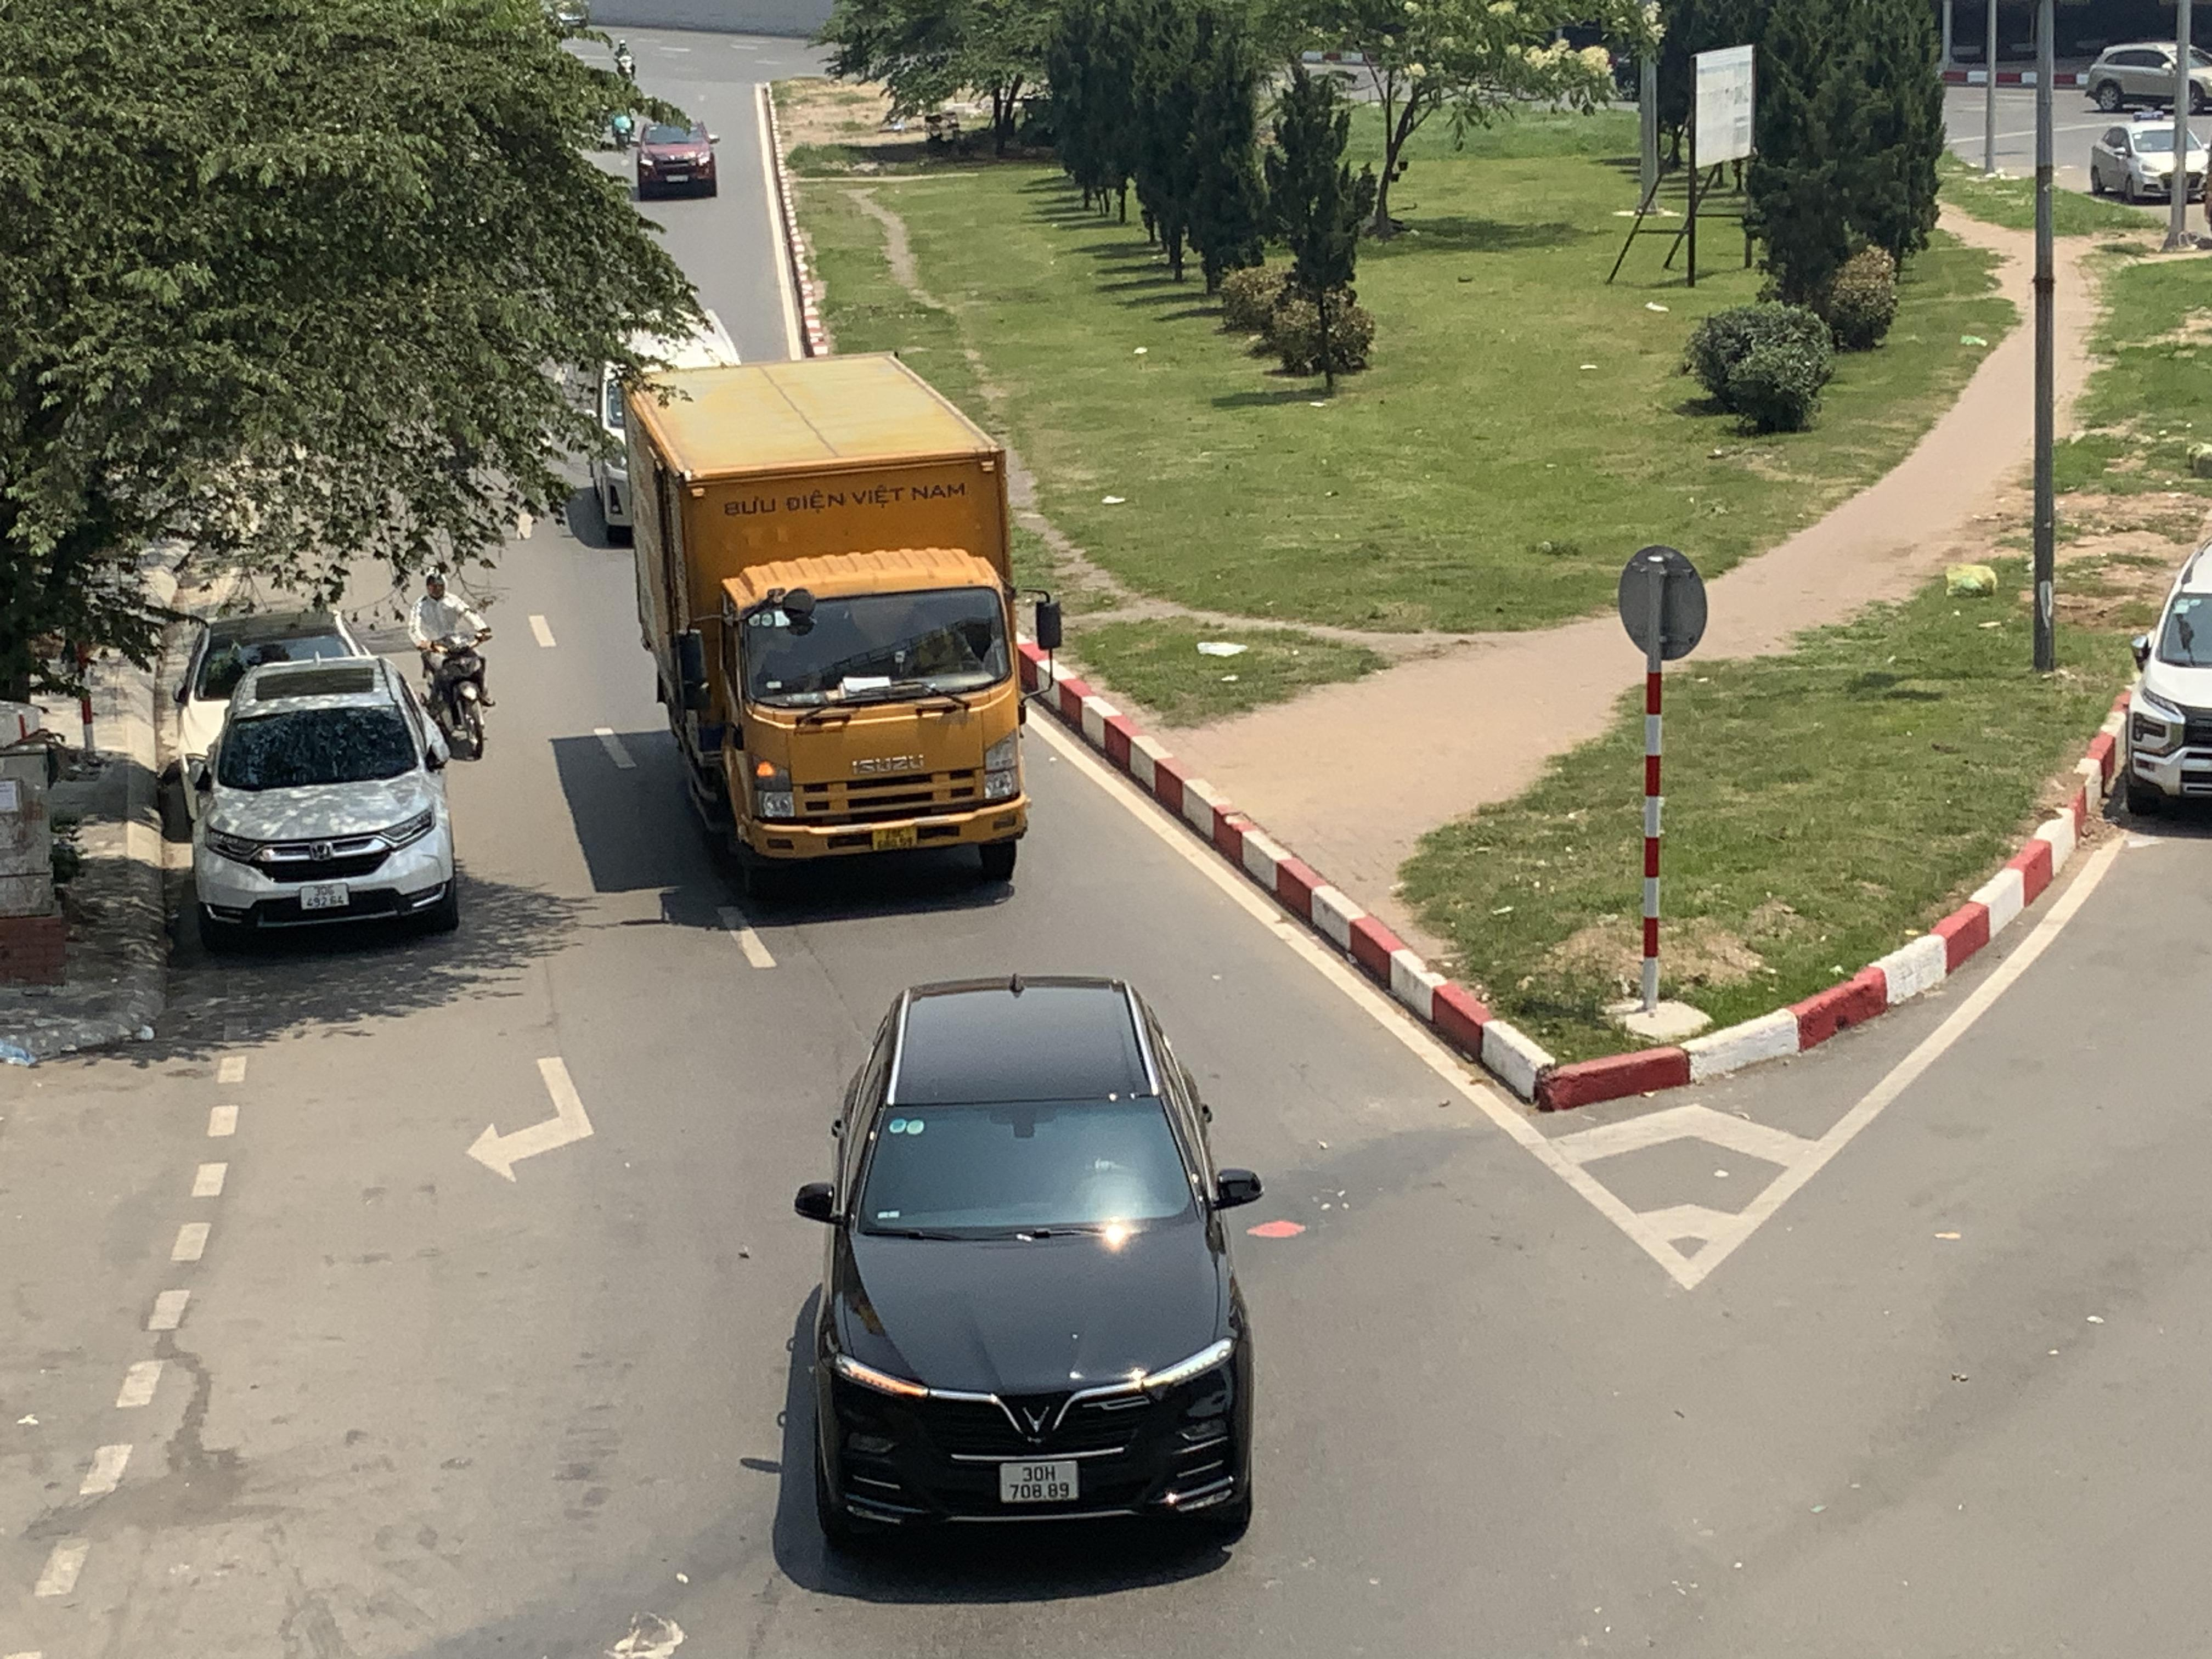BSV: (1000, 1460, 1078, 1502), (300, 884, 350, 910), (871, 826, 916, 850)
car: (791, 972, 1268, 1561), (181, 652, 463, 946), (2118, 526, 2212, 819), (2090, 119, 2212, 202), (2081, 40, 2212, 113), (631, 106, 719, 199)
motorbike: (413, 568, 493, 760)
truck: (615, 347, 1057, 894)
